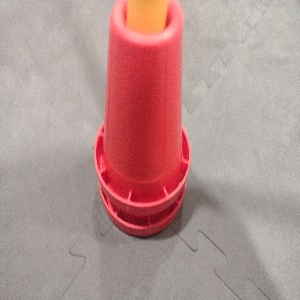Red_2: (92, 0, 190, 236)
